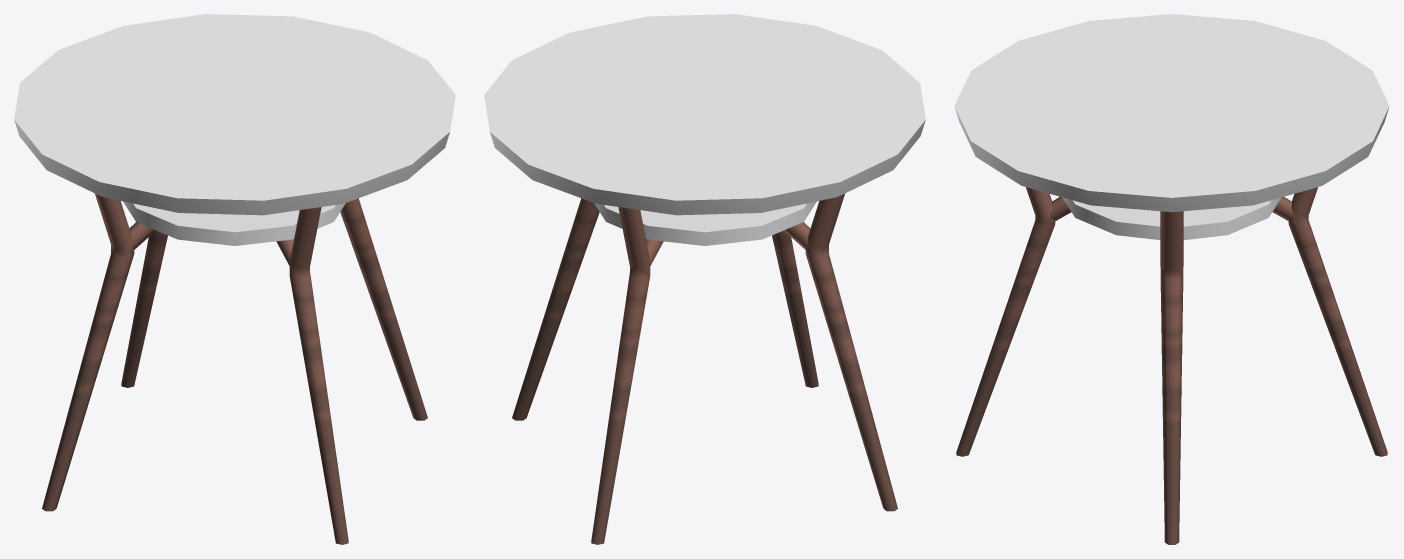
The model's file is table-01.glb.
3 renders of one model, left to right at view 1: azimuth 30°, elevation 25°; view 2: azimuth 150°, elevation 25°; view 3: azimuth 270°, elevation 25°, orthographic. The views are drawn at different scales.
Parts seen in each view (by area): view 1: Table_01; view 2: Table_01; view 3: Table_01.
Boxes of the visible parts, x1,y1,x2,y2 form: Table_01: (14,14,455,544); Table_01: (484,14,925,544); Table_01: (954,14,1389,544).
Size of the model in its own units: 0.9665 by 0.8522 by 0.9665.
Materials: 1 (1 with a texture image).
